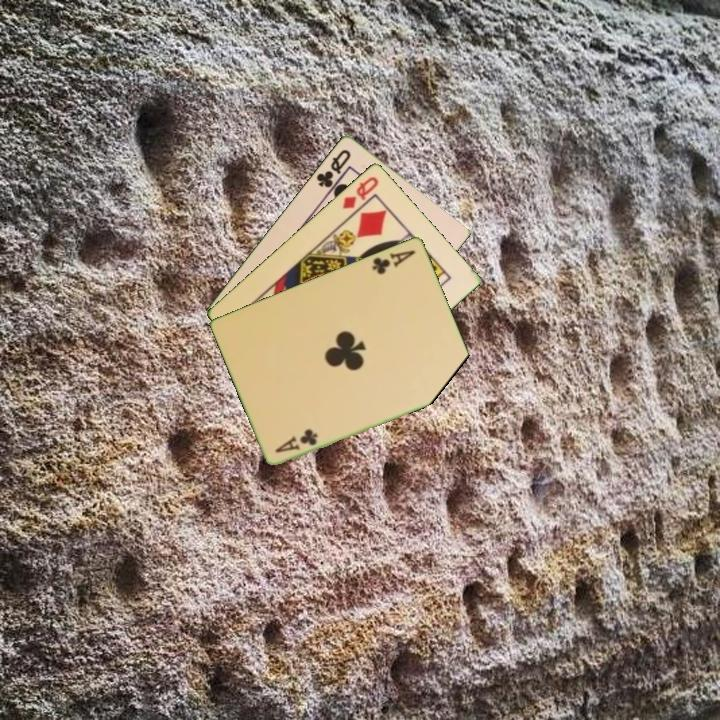Ac: (369, 246, 418, 277), (271, 425, 321, 455)
Qc: (313, 145, 354, 191)
Qd: (339, 172, 382, 212)
